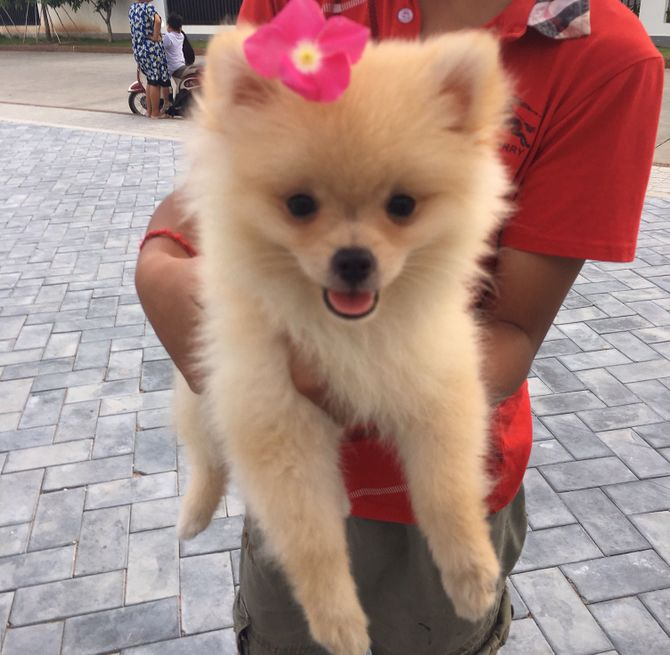pomeranian: (170, 9, 560, 641)
